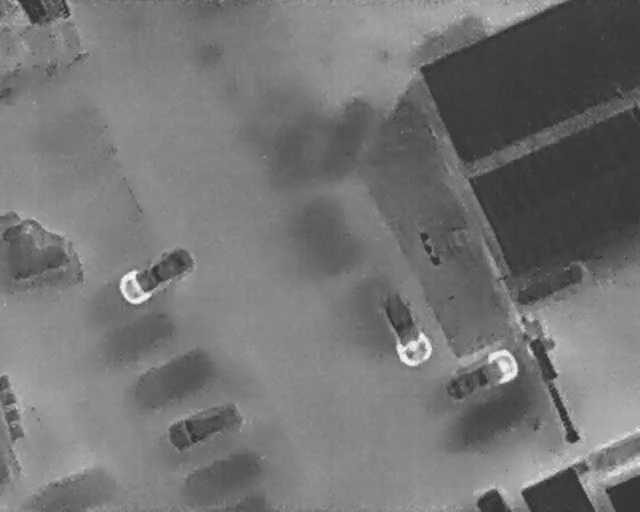Car: (112, 238, 202, 309), (371, 284, 438, 372), (439, 342, 523, 409), (164, 395, 245, 456), (473, 485, 512, 512)
